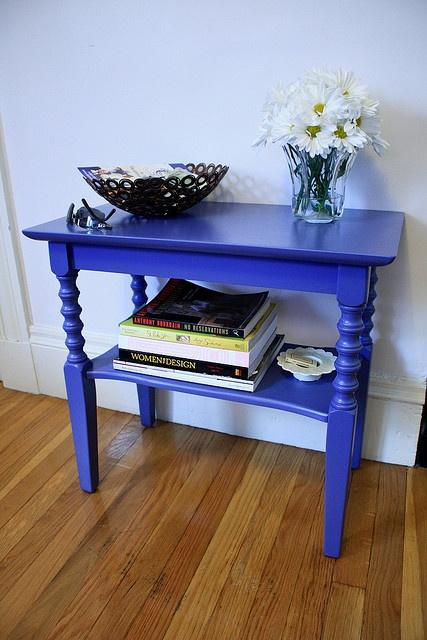Meja: (23, 192, 405, 559)
